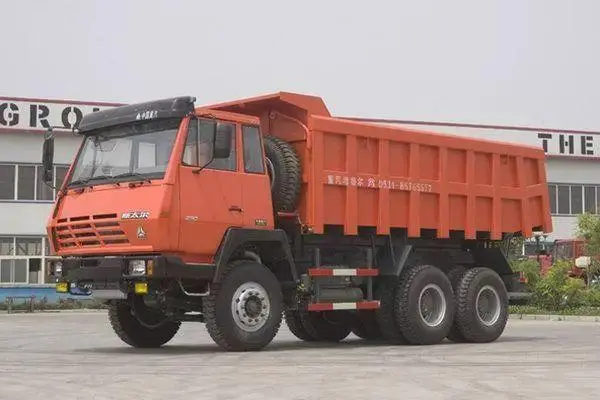bigtruck: (49, 91, 553, 362)
